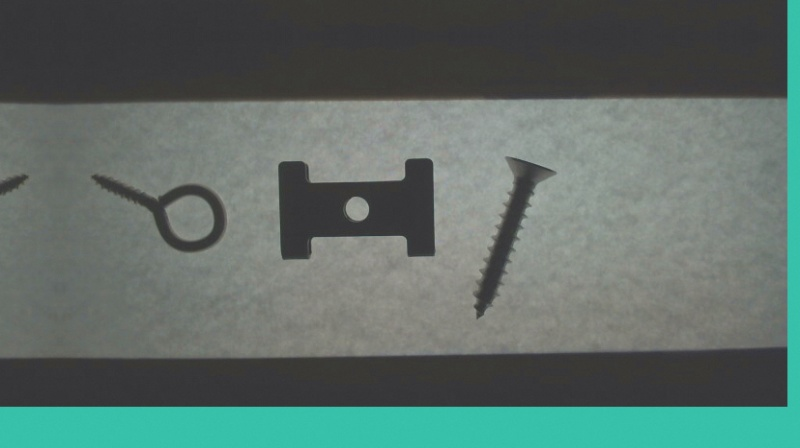O001: (88, 167, 233, 254)
O002: (276, 151, 440, 262)
S001: (470, 152, 559, 323)
